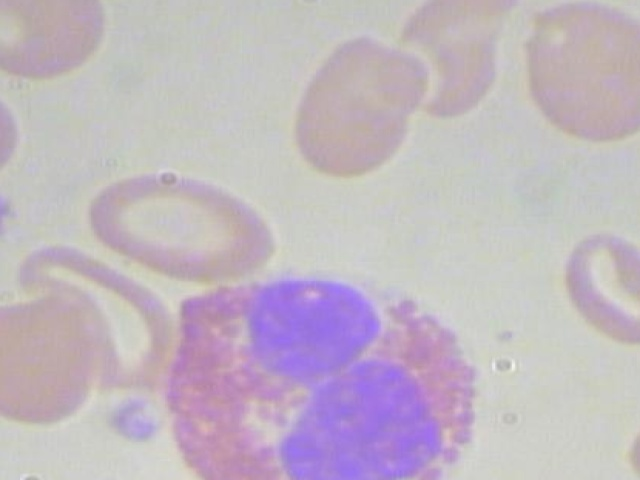Platelets: (103, 397, 166, 441), (0, 186, 25, 243)
RBC: (76, 164, 284, 284), (275, 34, 442, 182), (521, 0, 640, 152), (0, 287, 96, 434), (549, 231, 640, 351), (0, 0, 107, 89), (0, 60, 22, 210), (629, 153, 640, 273)
WBC: (157, 256, 511, 480)
